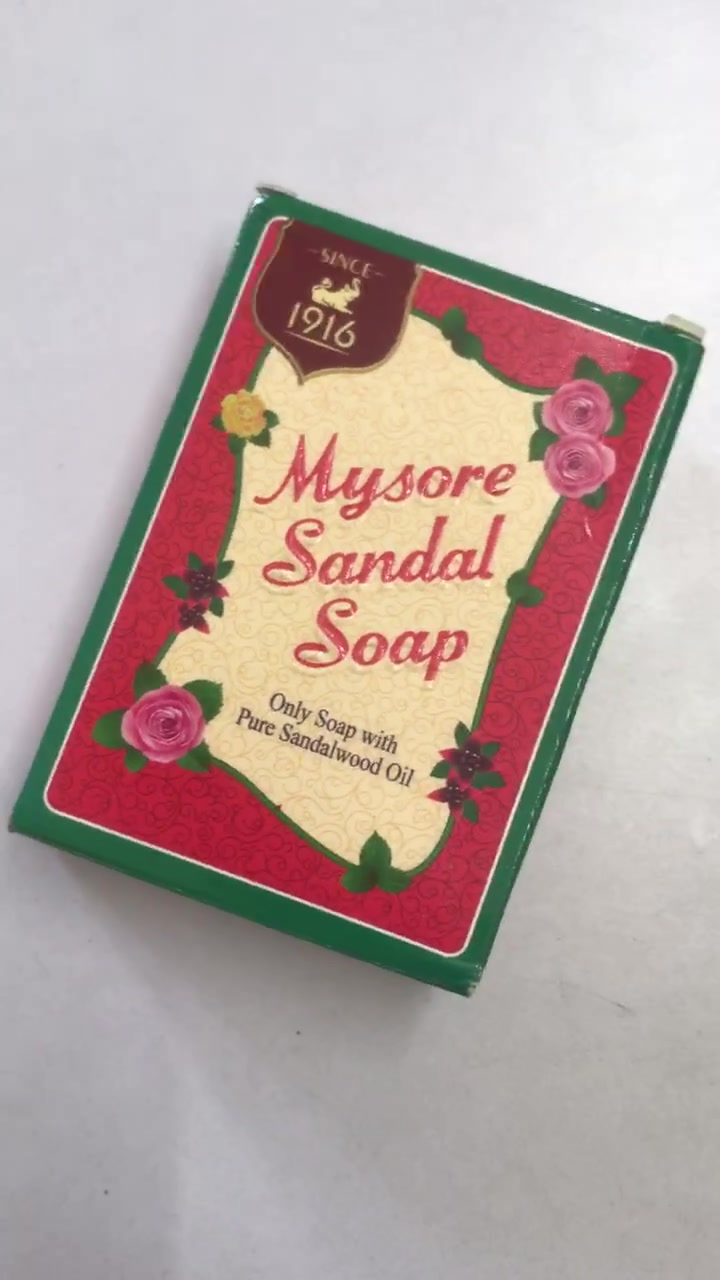mysore sandal soap: (8, 193, 708, 999)
